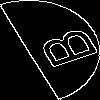B: (25, 25, 100, 75)
